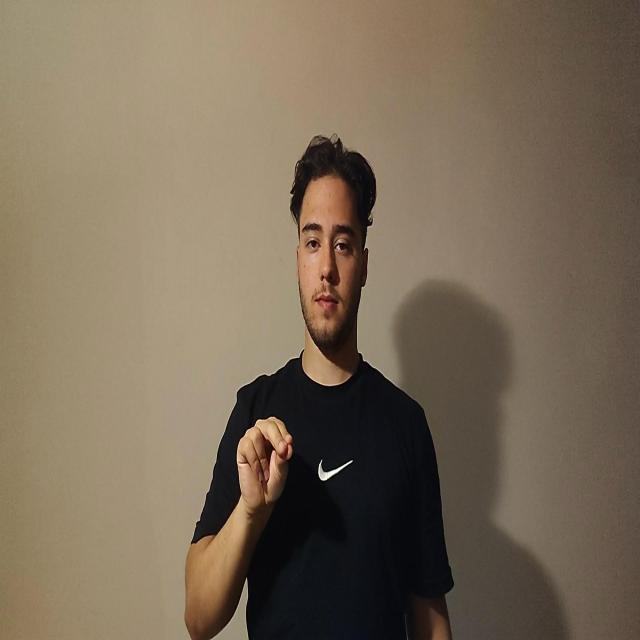no: (236, 415, 293, 516)
